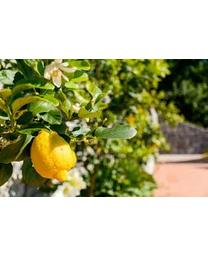lemon: (33, 129, 78, 179)
